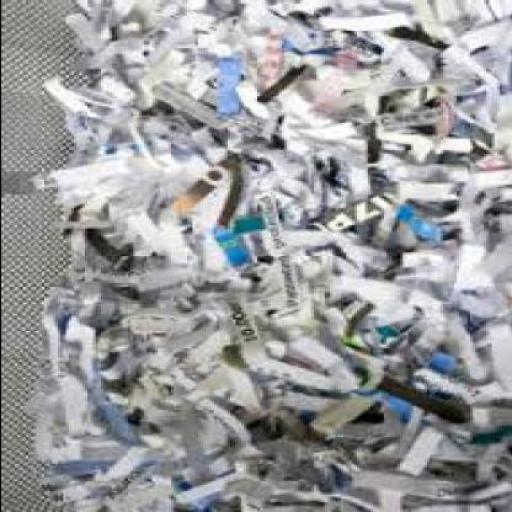paper: (20, 1, 510, 511)
